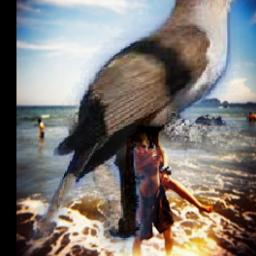Cuckoo: (23, 0, 256, 256)
